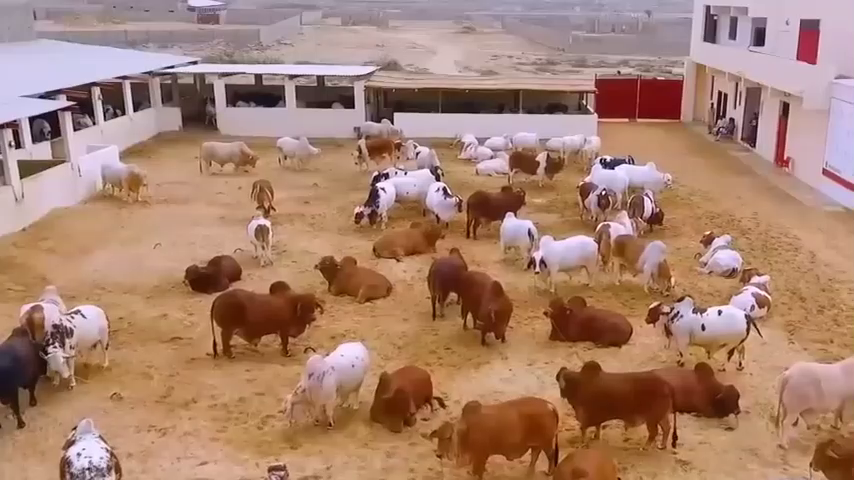bo: (416, 382, 564, 480), (553, 353, 684, 458), (766, 344, 853, 459), (196, 273, 321, 353), (639, 290, 757, 372), (275, 336, 366, 431), (648, 356, 749, 430), (538, 285, 639, 354), (42, 297, 116, 384), (451, 256, 519, 348), (47, 407, 129, 480), (522, 225, 600, 299), (366, 357, 433, 439), (1, 314, 47, 430), (313, 244, 391, 312), (606, 226, 677, 294), (93, 155, 160, 216), (723, 253, 774, 329), (462, 176, 527, 234), (685, 212, 740, 278), (588, 195, 639, 263), (372, 217, 446, 262), (181, 243, 245, 294), (541, 440, 624, 478), (235, 201, 282, 268), (426, 235, 461, 322), (617, 151, 676, 199), (17, 275, 64, 335), (417, 174, 468, 229), (193, 138, 263, 177), (271, 127, 329, 174), (491, 206, 537, 265), (505, 142, 568, 185), (803, 428, 854, 478), (398, 158, 446, 209), (356, 181, 402, 234), (344, 130, 402, 172), (242, 165, 283, 220), (471, 135, 520, 179), (410, 135, 452, 184), (622, 184, 669, 226), (573, 174, 614, 221), (349, 111, 405, 142), (584, 163, 629, 199), (546, 130, 584, 165), (597, 145, 640, 174), (503, 121, 539, 152), (574, 127, 600, 160), (68, 105, 94, 137), (479, 129, 510, 155), (453, 125, 480, 154), (30, 116, 57, 141)
